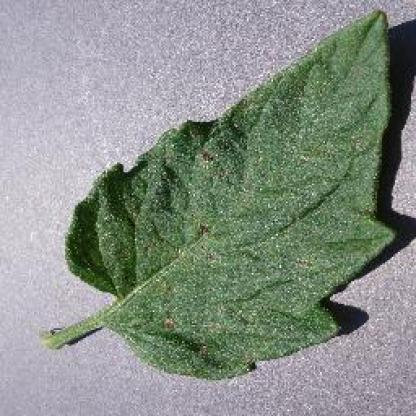bad leaf: (43, 1, 396, 397)
